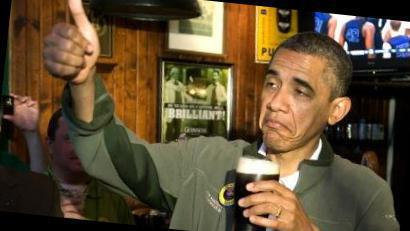Drunk: (260, 50, 320, 152)
